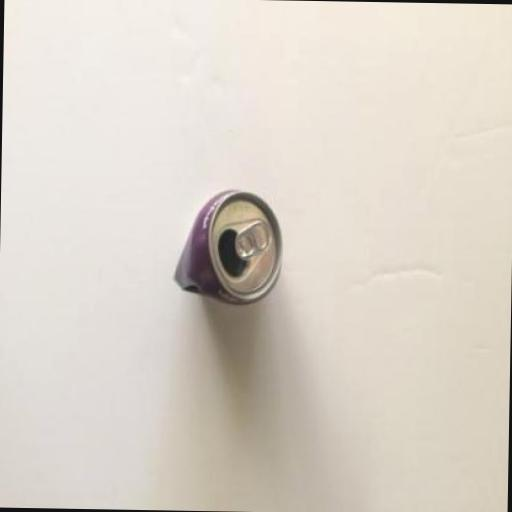metal: (171, 192, 284, 306)
